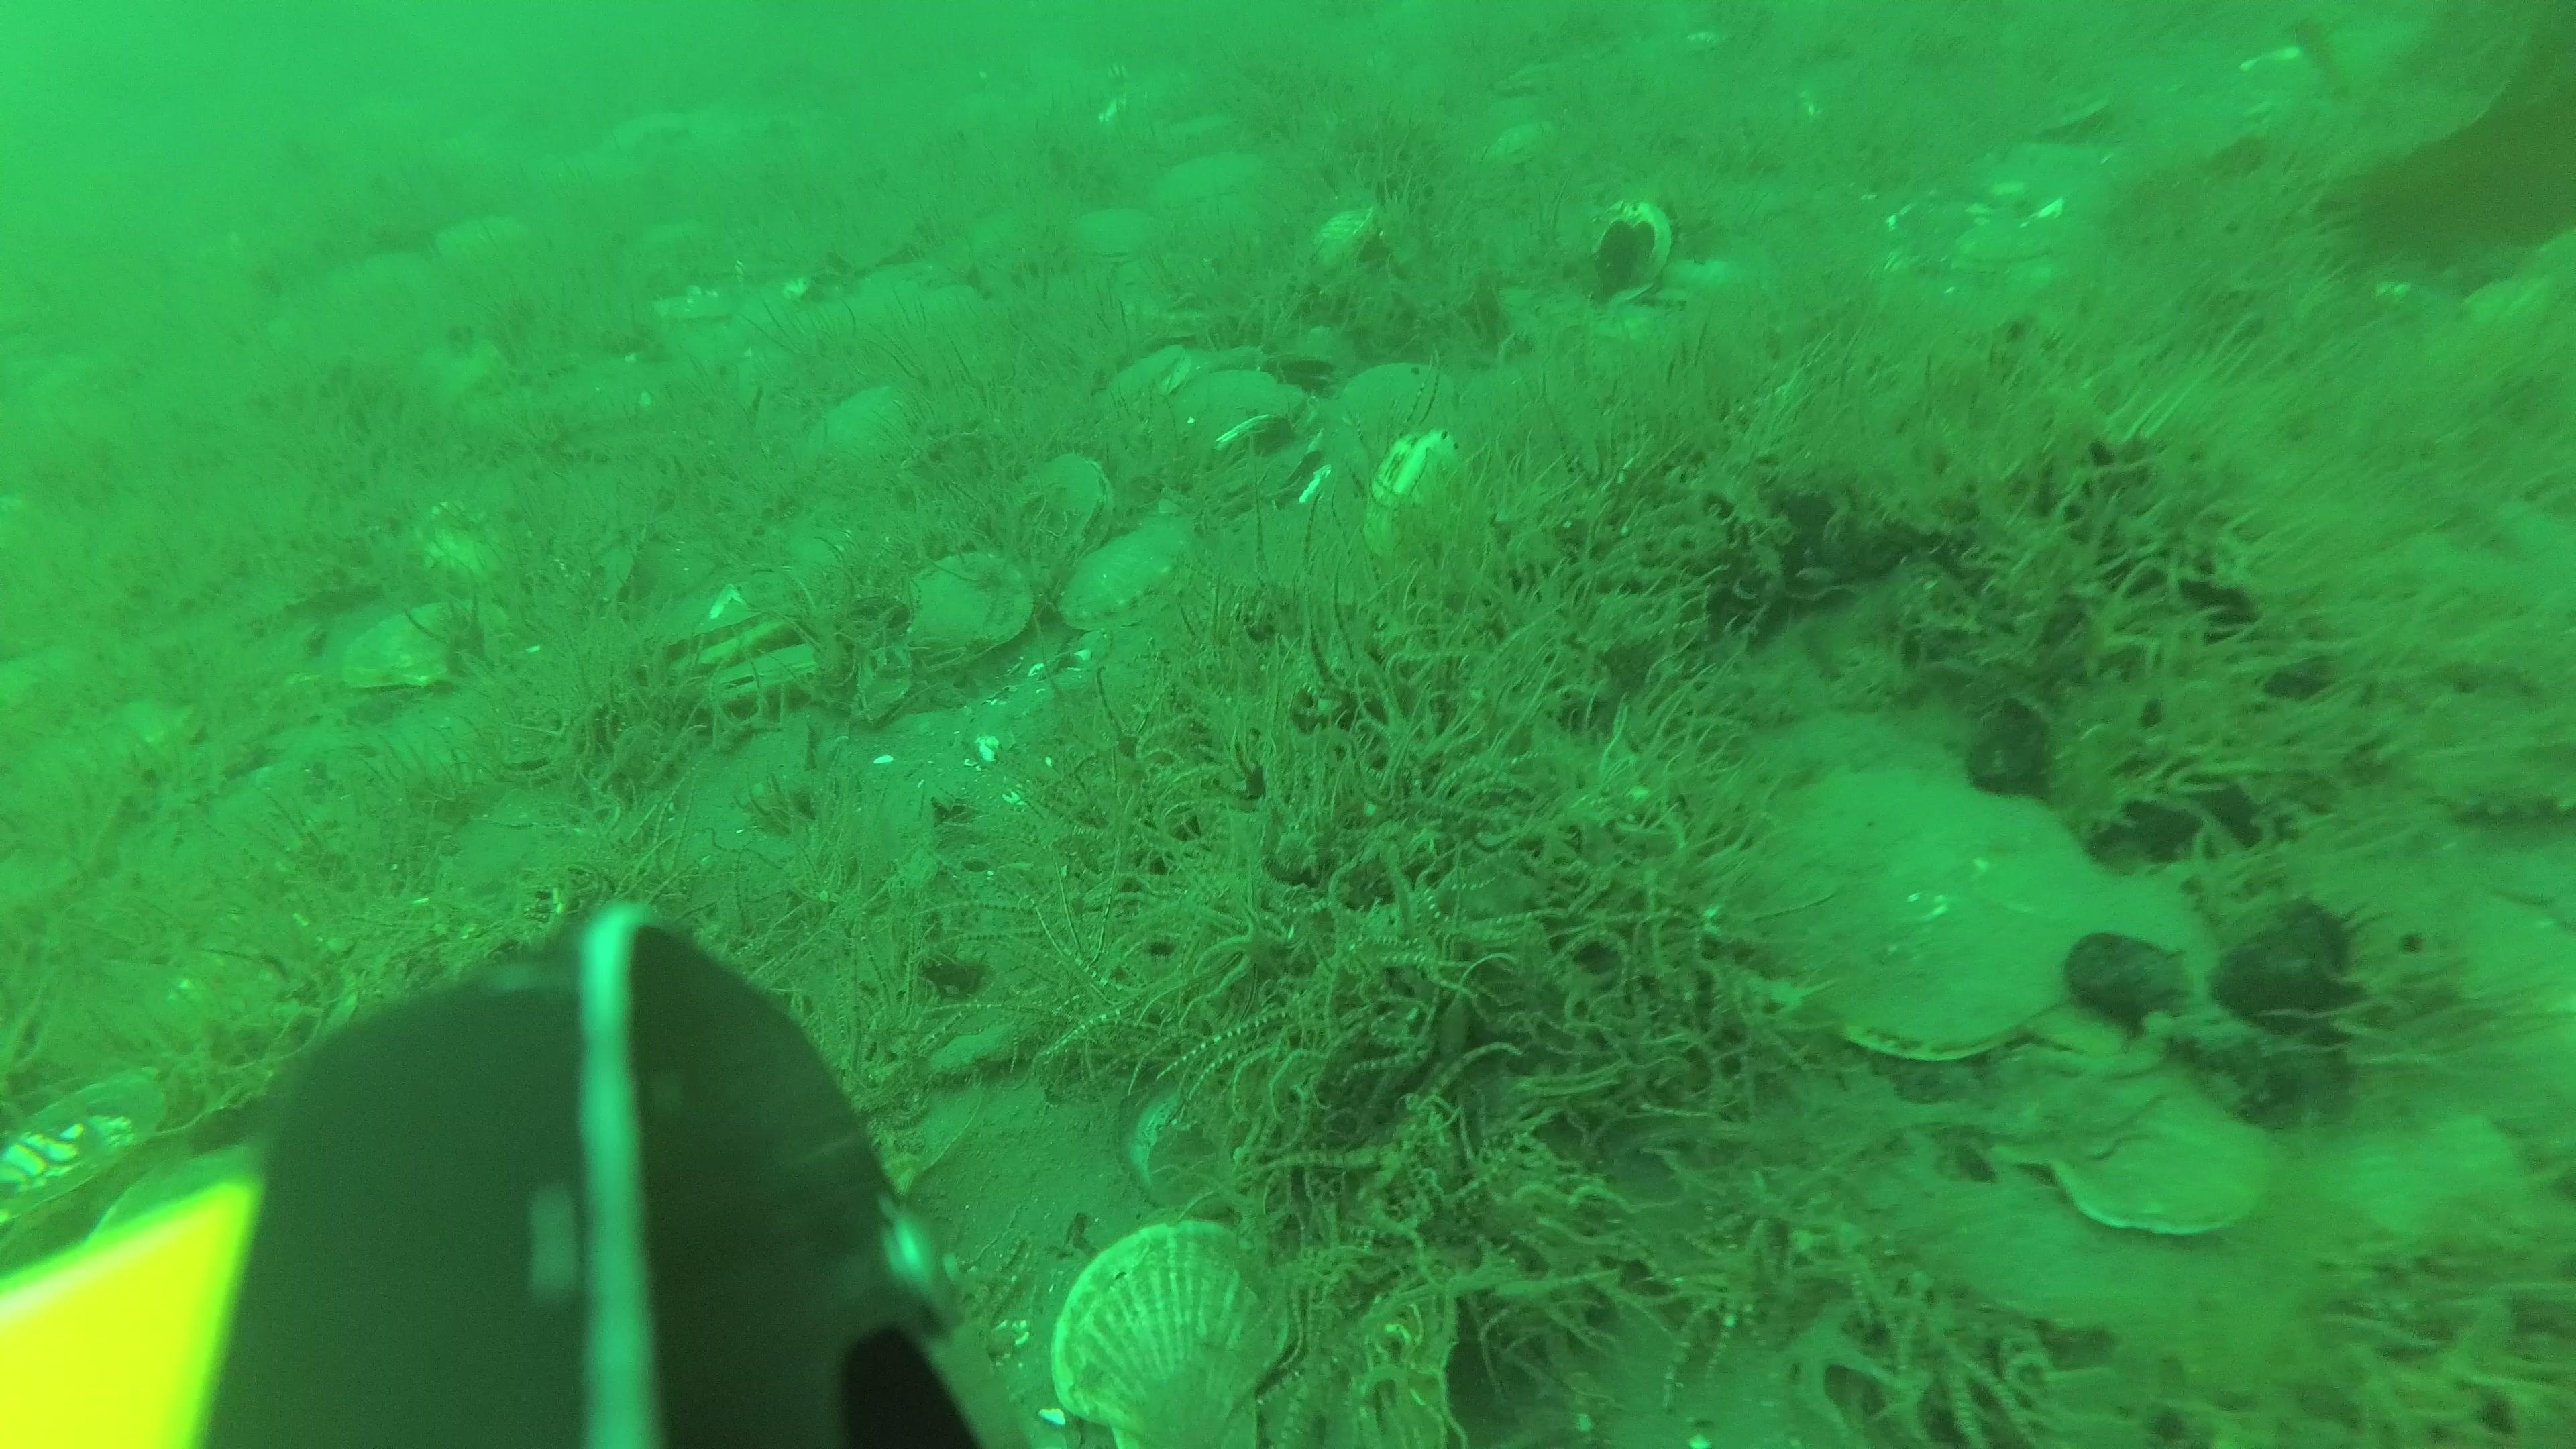holothurian: (2404, 743, 2576, 839)
scallop: (1782, 770, 2100, 1077), (1047, 1226, 1302, 1449), (2038, 879, 2224, 1067), (2065, 1074, 2282, 1230), (1983, 993, 2173, 1150), (5, 1072, 177, 1212), (347, 594, 511, 699), (904, 563, 1042, 672), (993, 462, 1116, 571), (1063, 513, 1177, 628), (1345, 352, 1460, 455), (702, 644, 826, 729), (824, 384, 938, 474), (1175, 370, 1304, 448), (1060, 195, 1171, 274), (671, 610, 794, 674), (1304, 198, 1387, 287), (1146, 145, 1269, 202), (432, 203, 531, 271), (1115, 345, 1210, 403)
